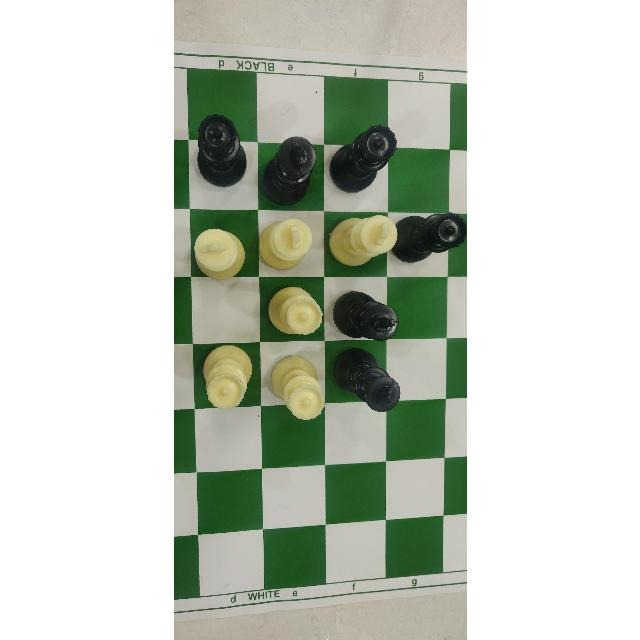black-king: (259, 125, 320, 208), (334, 349, 399, 415), (333, 291, 397, 343)
black-queen: (328, 121, 397, 196), (395, 206, 463, 269), (192, 111, 244, 189)
white-king: (328, 218, 397, 268), (190, 222, 246, 282), (256, 216, 310, 273)
white-queen: (266, 358, 327, 423), (200, 347, 249, 413), (265, 288, 319, 337)
